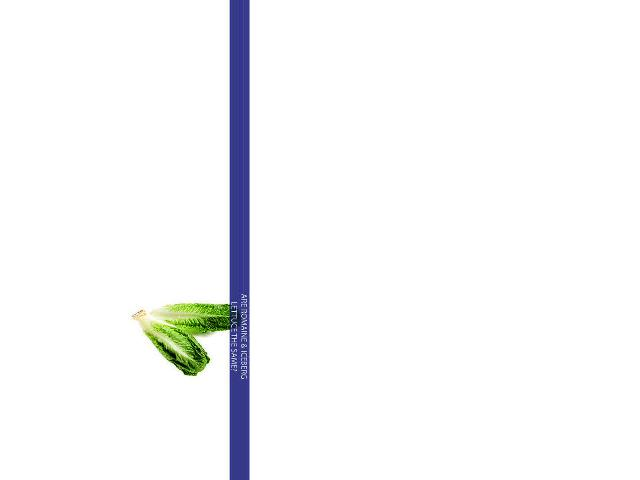lettuce: (122, 310, 214, 372)
